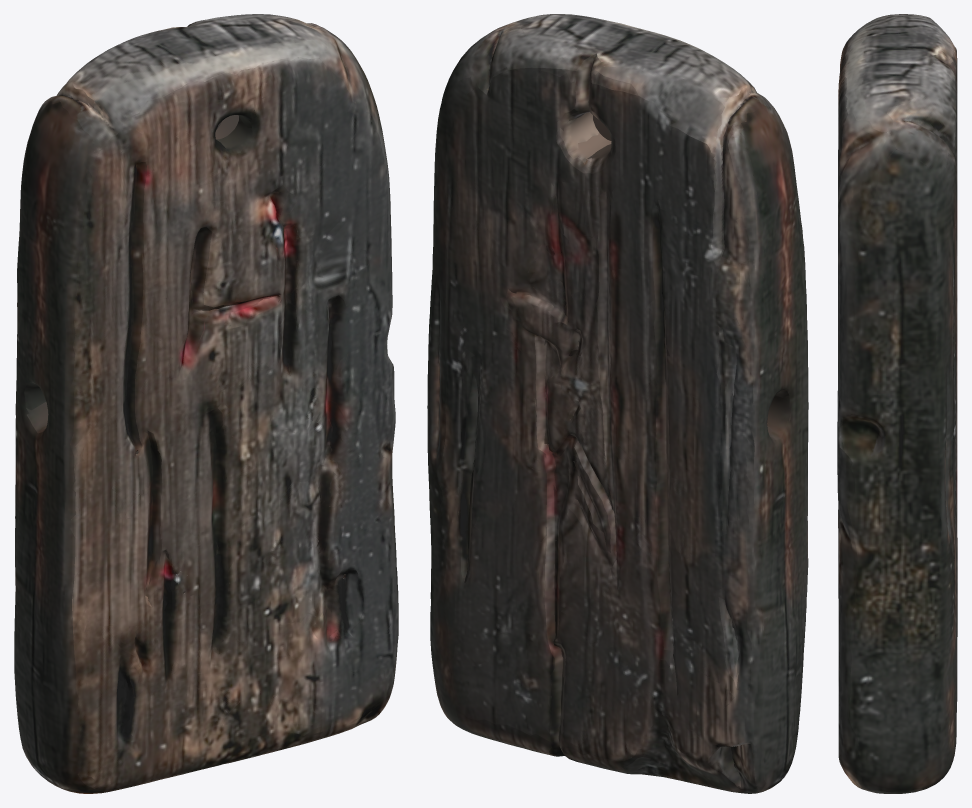
File: seal.glb
3 views of the same model, side by side, from view 1: azimuth 30°, elevation 25°; view 2: azimuth 150°, elevation 25°; view 3: azimuth 270°, elevation 25° (orthographic). The views are drawn at different scales.
Visible parts, largest first — view 1: geometry_0; view 2: geometry_0; view 3: geometry_0.
Part boxes in pixels (x1,y1,x2,y2): geometry_0: [14, 14, 398, 793]; geometry_0: [427, 14, 808, 793]; geometry_0: [837, 14, 957, 793].
Size of the model in its own units: 0.18 by 0.3581 by 0.0576.
Materials: 1 (1 with a texture image).
